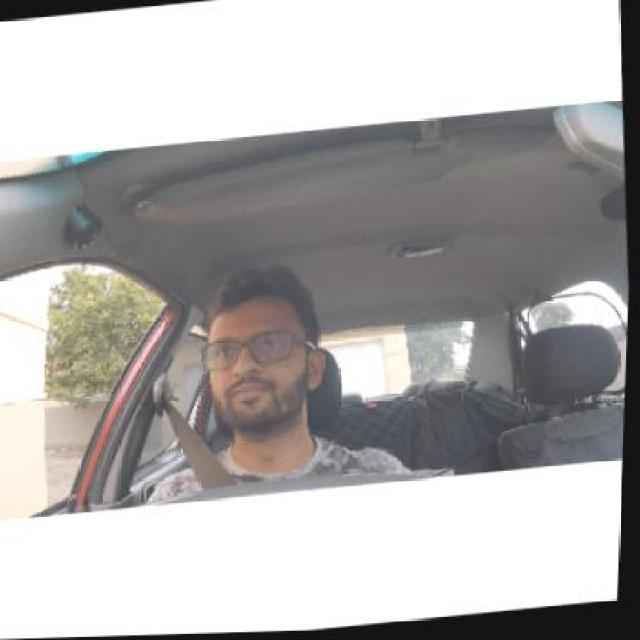person: (188, 267, 334, 429)
